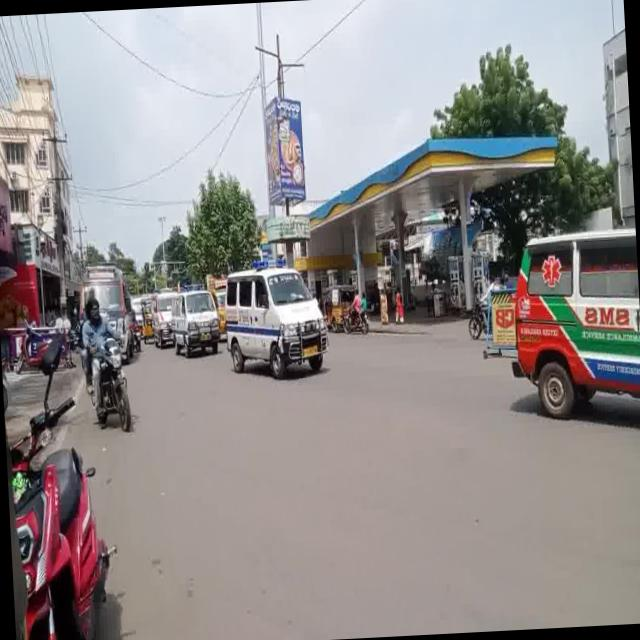ambulance: (511, 213, 640, 421), (213, 248, 336, 378), (74, 238, 136, 362), (174, 275, 218, 381), (152, 287, 170, 360)
